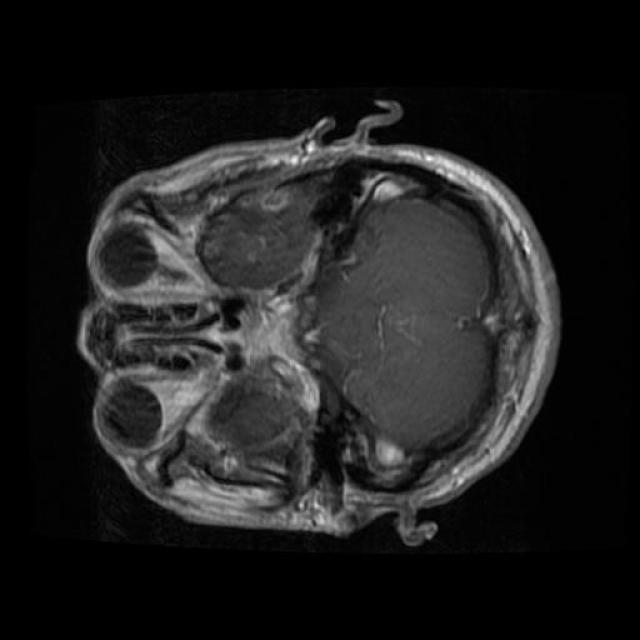Glioma: (199, 172, 338, 289)
